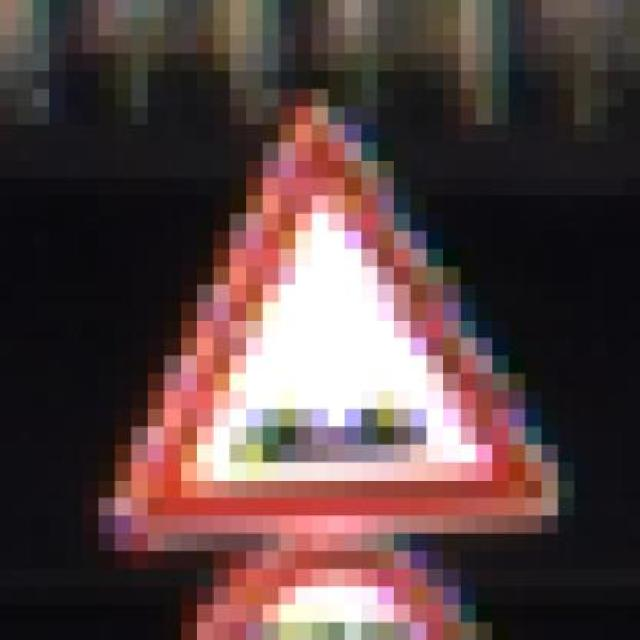Uneven Road: (100, 61, 558, 541)
